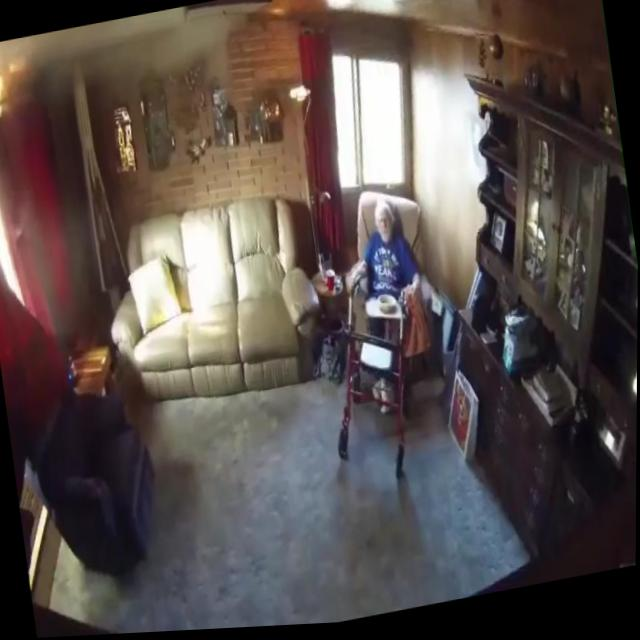fire: (0, 46, 10, 123)
